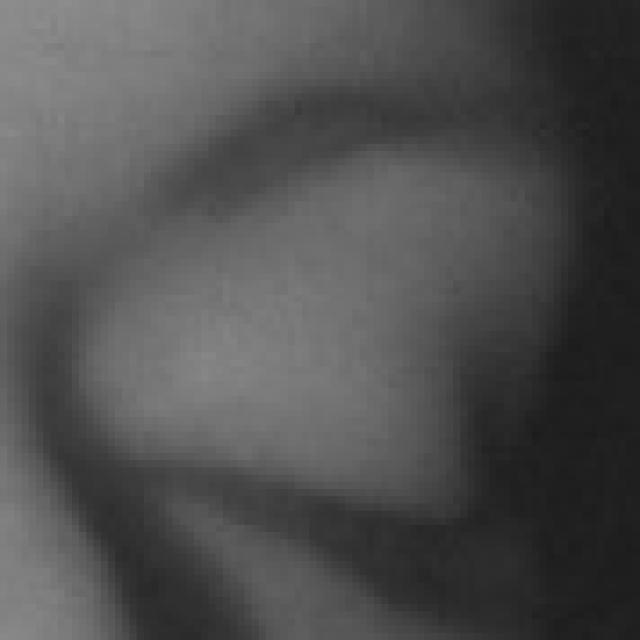Eyeclosed: (118, 259, 507, 640)
